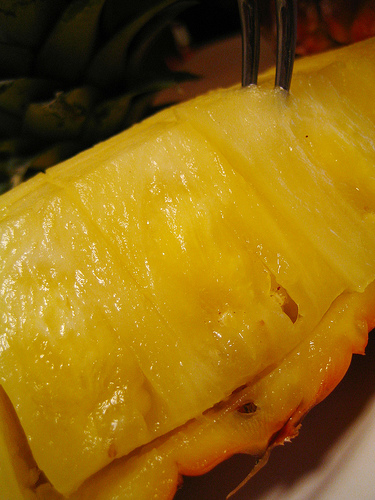pineapple: (1, 37, 373, 497)
